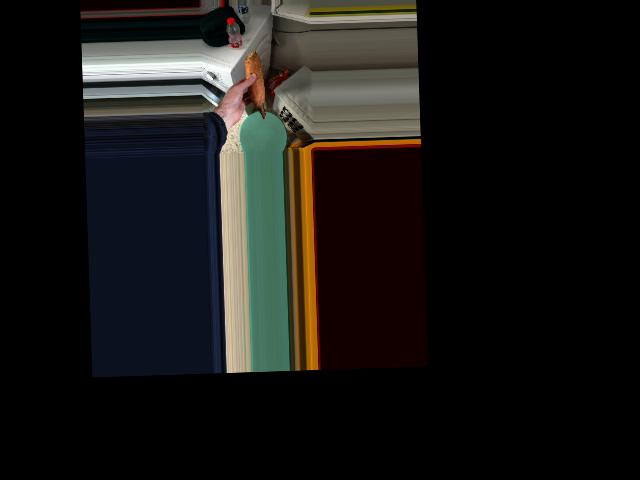sweet_potato: (245, 55, 266, 121)
